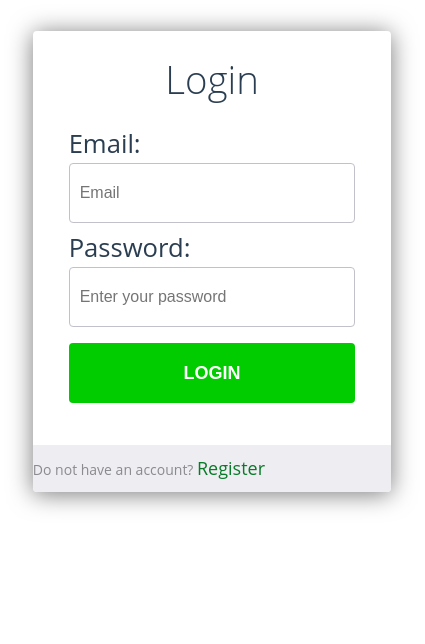
Scenario: Login component › renders error for password shorter than 3 characters
Step 1. Type "12" into the password field with test id "password" → (212, 297), box [69,267,355,327]
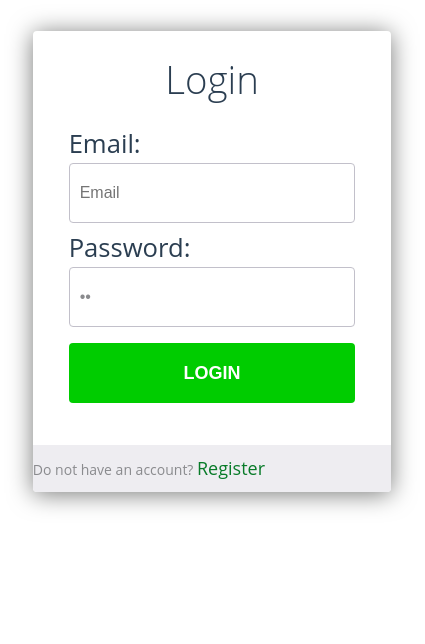
Step 2. Leave the password field with test id "password", box [69,267,355,327]
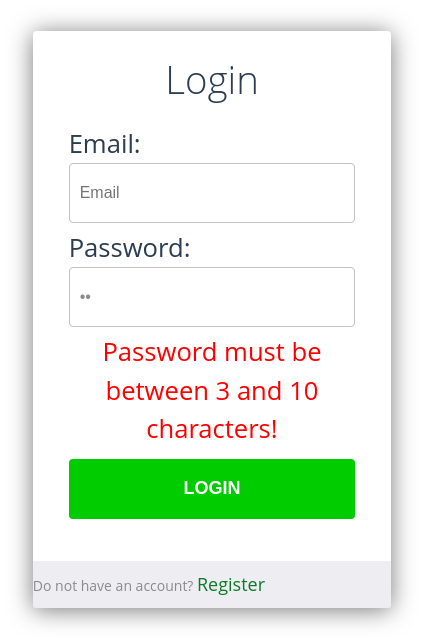
Check: the text "Password must be between 3 and 10 characters!" is shown, box [102,334,322,446]
